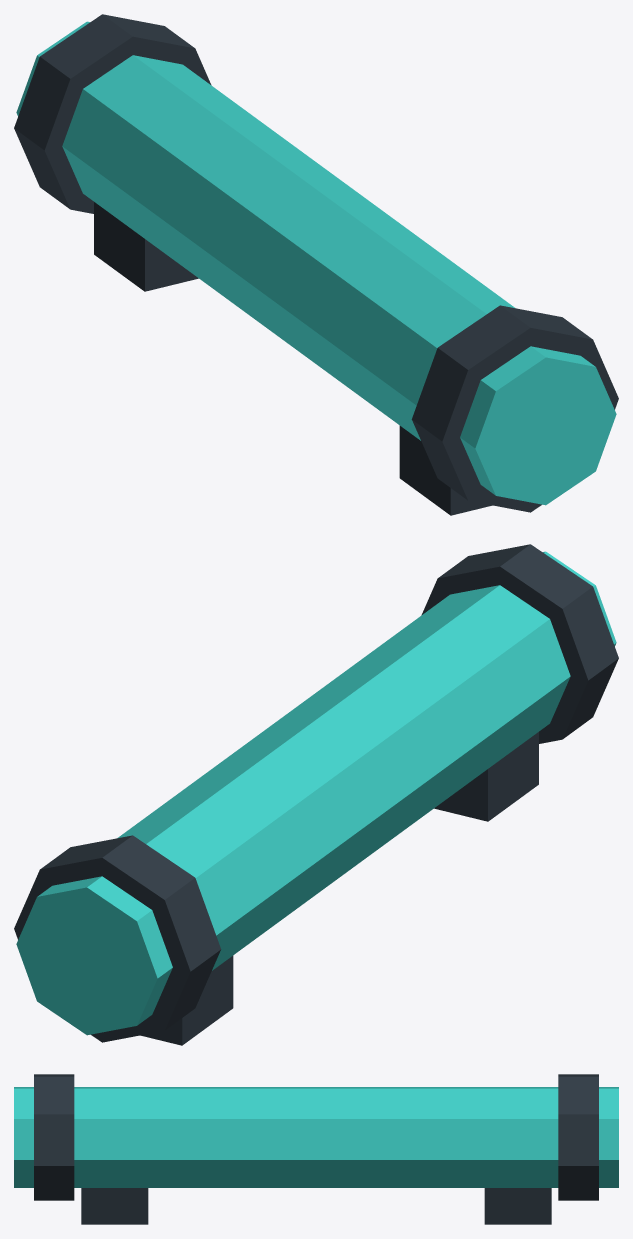
The model's file is tube-pipe.glb.
3 renders of one model, top to bottom at view 1: azimuth 30°, elevation 25°; view 2: azimuth 150°, elevation 25°; view 3: azimuth 270°, elevation 25°, orthographic. The views are drawn at different scales.
Parts seen in each view (by area): view 1: lab-tube-pipe; view 2: lab-tube-pipe; view 3: lab-tube-pipe.
Boxes of the visible parts, x1=… form: lab-tube-pipe: x1=14, y1=14, x2=618, y2=515; lab-tube-pipe: x1=14, y1=544, x2=618, y2=1045; lab-tube-pipe: x1=14, y1=1074, x2=618, y2=1224.
Size of the model in its own units: 0.2 by 0.22 by 0.9.
